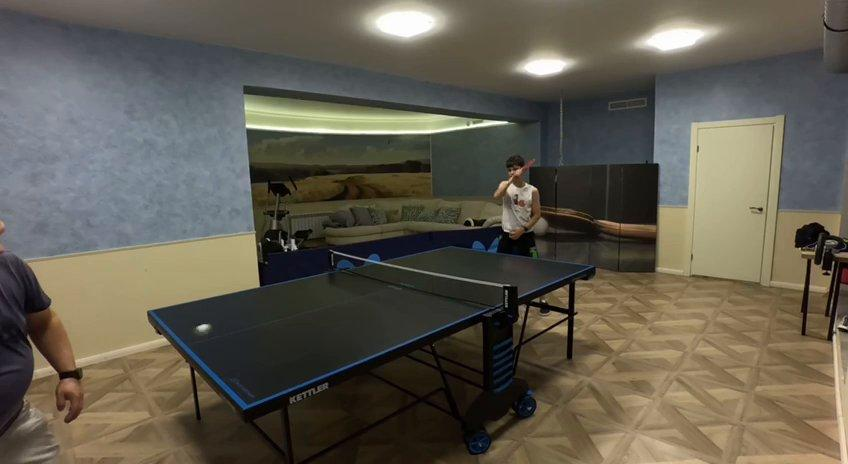Ball: (192, 325, 214, 336)
Net: (329, 250, 518, 312)
Player1: (494, 156, 547, 255)
Player2: (0, 244, 82, 463)
Table: (150, 247, 594, 408)
